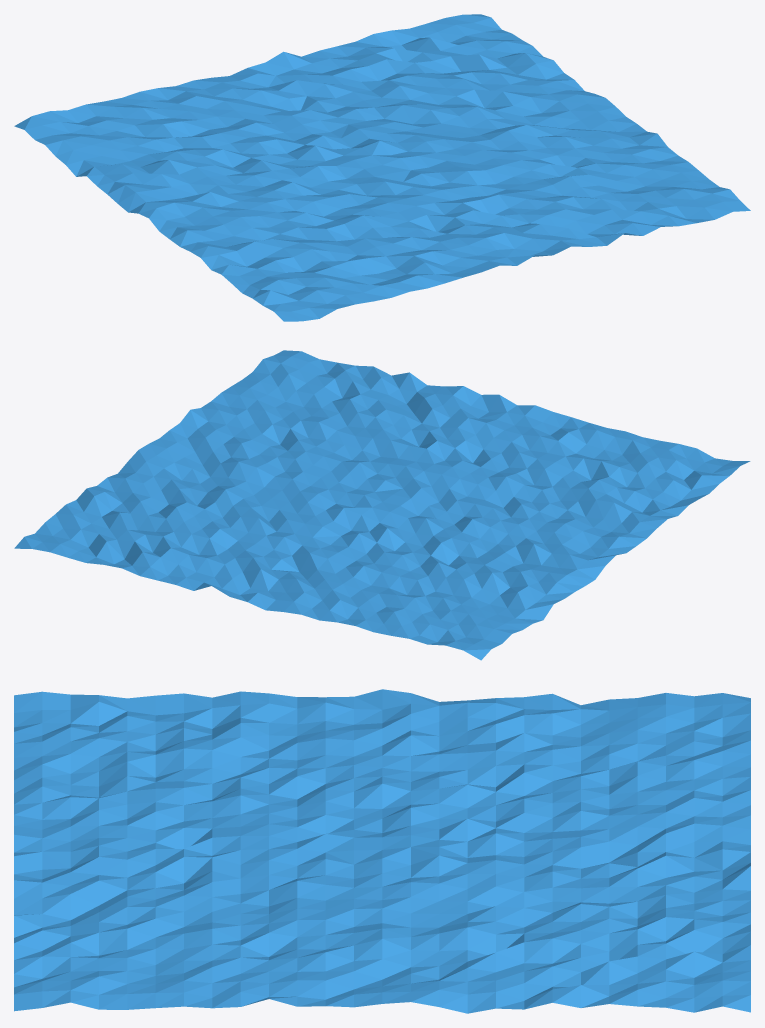
Rendered from water wave.fbx.
3 renders of one model, top to bottom at view 1: azimuth 30°, elevation 25°; view 2: azimuth 150°, elevation 25°; view 3: azimuth 270°, elevation 25°, orthographic. The views are drawn at different scales.
Visible parts, largest first — view 1: Plane; view 2: Plane; view 3: Plane.
Part boxes in pixels (x1,y1,x2,y2): Plane: [14, 14, 750, 321]; Plane: [14, 350, 750, 660]; Plane: [14, 689, 750, 1013].
Size of the model in its own units: 2155 by 73.85 by 2155.
